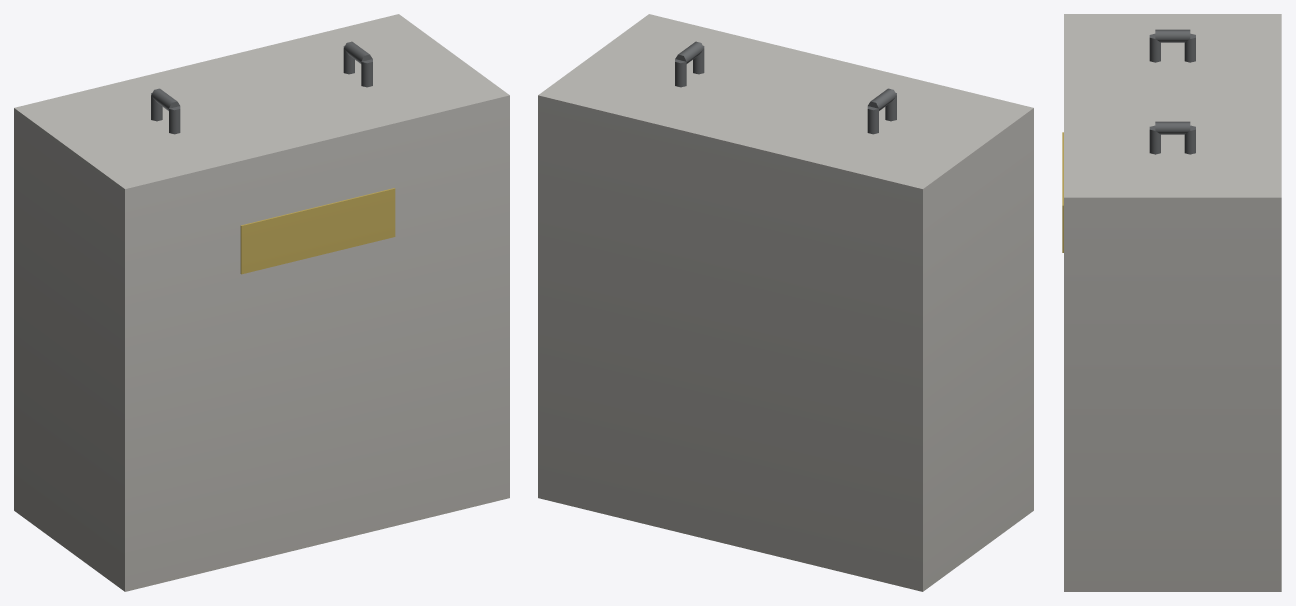
Rendered from shieldBlock_concrete.glb.
The picture shows the model from 3 angles, left to right: view 1: azimuth 30°, elevation 25°; view 2: azimuth 150°, elevation 25°; view 3: azimuth 270°, elevation 25°; orthographic projection. The views are drawn at different scales.
Parts seen in each view (by area): view 1: shieldBlock_concrete; view 2: shieldBlock_concrete; view 3: shieldBlock_concrete.
Part boxes in pixels (x1,y1,x2,y2): shieldBlock_concrete: (14, 14, 509, 591); shieldBlock_concrete: (538, 14, 1033, 591); shieldBlock_concrete: (1062, 14, 1281, 591).
Size of the model in its own units: 1 by 1.07 by 0.504.
